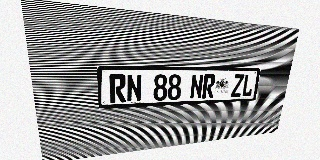8: (153, 74, 168, 101), (167, 74, 182, 100)
L: (241, 74, 255, 97)
N: (126, 74, 142, 102), (189, 74, 204, 99)
R: (109, 74, 126, 103), (202, 74, 216, 98)
Z: (231, 74, 244, 97)
